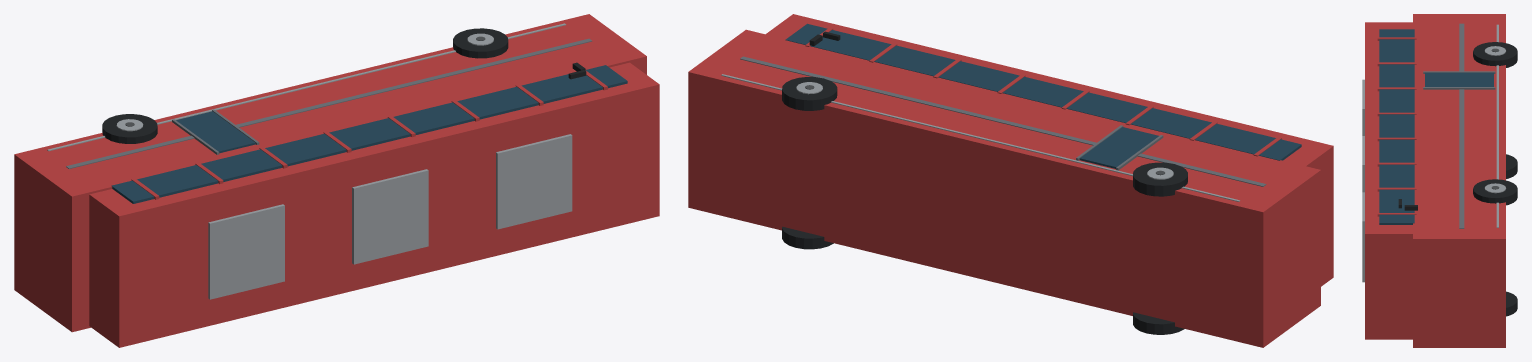
File: RM_Bus_02.glb
3 renders of one model, left to right at view 1: azimuth 30°, elevation 25°; view 2: azimuth 150°, elevation 25°; view 3: azimuth 270°, elevation 25°, orthographic. The views are drawn at different scales.
Visible parts, largest first — view 1: part_001, part_000, part_002, part_037, part_039, part_038, part_013, part_040, part_030, part_024, part_014; view 2: part_000, part_002, part_001, part_013, part_040, part_030, part_024, part_014, part_027, part_021; view 3: part_000, part_001, part_002, part_013, part_040, part_024, part_030, part_014, part_039, part_027, part_021, part_042 (+5 smaller).
Part boxes in pixels (box(x1,y1,x2,y2)): part_001: box(89, 62, 659, 347); part_000: box(14, 14, 646, 332); part_002: box(111, 65, 627, 203); part_037: box(208, 204, 284, 299); part_039: box(496, 134, 572, 229); part_038: box(352, 169, 428, 264); part_013: box(66, 38, 592, 168); part_040: box(176, 111, 255, 153); part_030: box(453, 28, 508, 58); part_024: box(102, 114, 157, 143); part_014: box(47, 23, 566, 151); part_000: box(688, 29, 1320, 347); part_002: box(785, 23, 1301, 160); part_001: box(766, 14, 1333, 286); part_013: box(740, 56, 1266, 186); part_040: box(1079, 127, 1158, 168); part_030: box(782, 77, 837, 110); part_024: box(1133, 162, 1187, 196); part_014: box(721, 74, 1240, 201); part_027: box(782, 226, 833, 249); part_021: box(1133, 312, 1184, 334); part_000: box(1413, 14, 1505, 347); part_001: box(1365, 22, 1412, 339); part_002: box(1379, 29, 1414, 224); part_013: box(1459, 23, 1464, 228); part_040: box(1425, 72, 1493, 86); part_024: box(1473, 42, 1517, 67); part_030: box(1473, 179, 1517, 205); part_014: box(1496, 24, 1498, 227); part_039: box(1362, 192, 1364, 282); part_027: box(1506, 291, 1517, 316); part_021: box(1506, 154, 1517, 178); part_042: box(1423, 87, 1495, 89).
Size of the model in its own units: 11.22 by 2.85 by 3.28.
